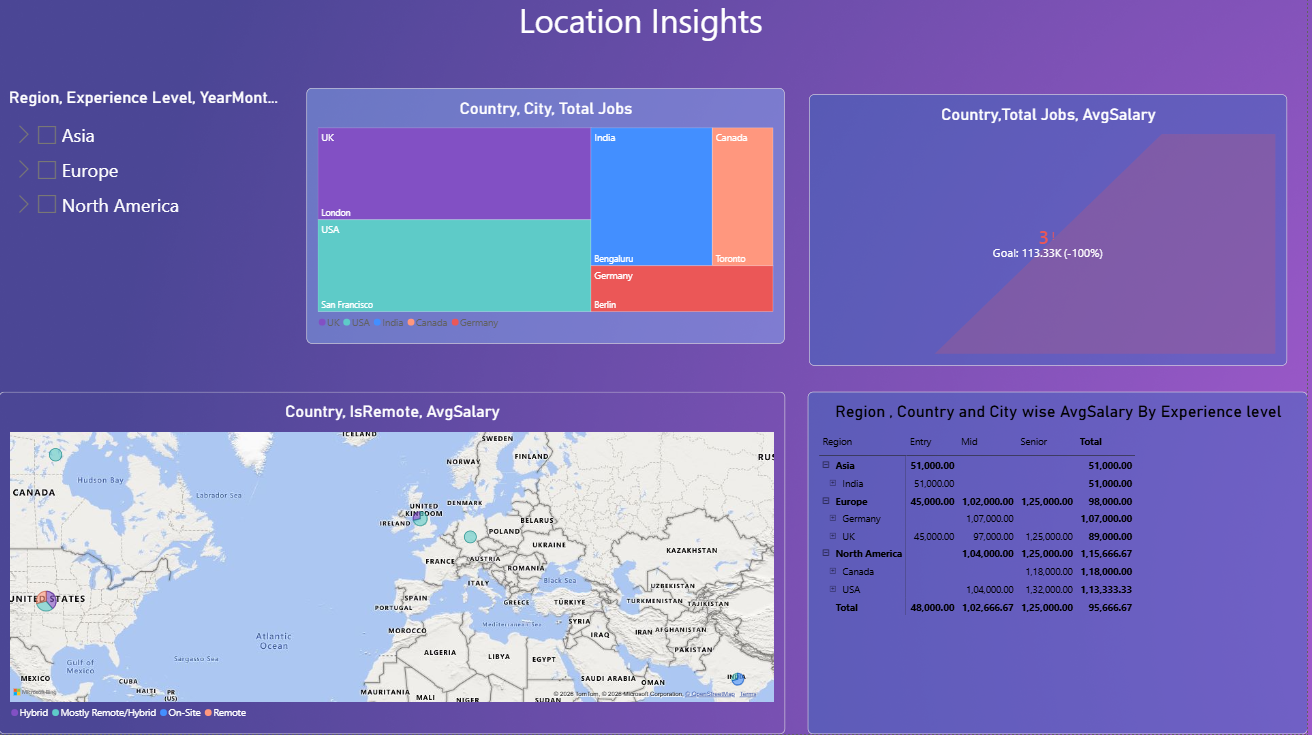

Layout of this report page (visuals, bound fields, positions):
{"tool":"powerbi","page":{"name":"Location Insights","canvas":[1920,1080],"ordinal":1},"visuals":[{"type":"slicer","title":"Region, Experience Level, YearMonth Wise Filter","fields":{"Values":["Dim_Locations.Region","Fact_Jobs.Experience_Level","Dim_Date.YearMonth"]},"box":[12.8,306.3,399.9,374.2],"z":0},{"type":"textbox","box":[763,0,390.7,82.5],"z":1000},{"type":"map","title":"Country, IsRemote, AvgSalary","fields":{"Category":["Dim_Locations.Country"],"Series":["Fact_Jobs.IsRemote"],"Size":["Fact_Jobs.AvgSalary"]},"box":[0,704.4,1139.1,376],"z":2000},{"type":"kpi","title":"Country,Total Jobs, AvgSalary","fields":{"Goal":["Fact_Jobs.AvgSalary"],"Indicator":["Fact_Jobs.TotalJobs"],"TrendLine":["Dim_Locations.Country"]},"box":[1188.6,306.3,701.7,398.3],"z":3000},{"type":"treemap","title":"Country, City, Total Jobs","fields":{"Details":["Dim_Locations.City"],"Group":["Dim_Locations.Country"],"Values":["Fact_Jobs.TotalJobs"]},"box":[453.1,306.3,701.7,375],"z":4000},{"type":"pivotTable","title":"Region , Country and City wise AvgSalary By Experience level","fields":{"Columns":["Fact_Jobs.Experience_Level"],"Rows":["Dim_Locations.Region","Dim_Locations.Country","Dim_Locations.City"],"Values":["Fact_Jobs.AvgSalaryByCountry"]},"box":[1188.6,719,701.7,348.3],"z":5000}]}

Visuals, with their boxes in screenshot pixels (x1, y1, x2, y2), scaled from the page's 1920x1080 canvas onto the 1312x735 screenshot:
"Region, Experience Level, YearMonth Wise Filter" slicer: 9:208:282:463
textbox: 521:0:788:56
"Country, IsRemote, AvgSalary" map: 0:479:778:734
"Country,Total Jobs, AvgSalary" kpi: 812:208:1292:480
"Country, City, Total Jobs" treemap: 310:208:789:464
"Region , Country and City wise AvgSalary By Experience level" pivotTable: 812:489:1292:726
